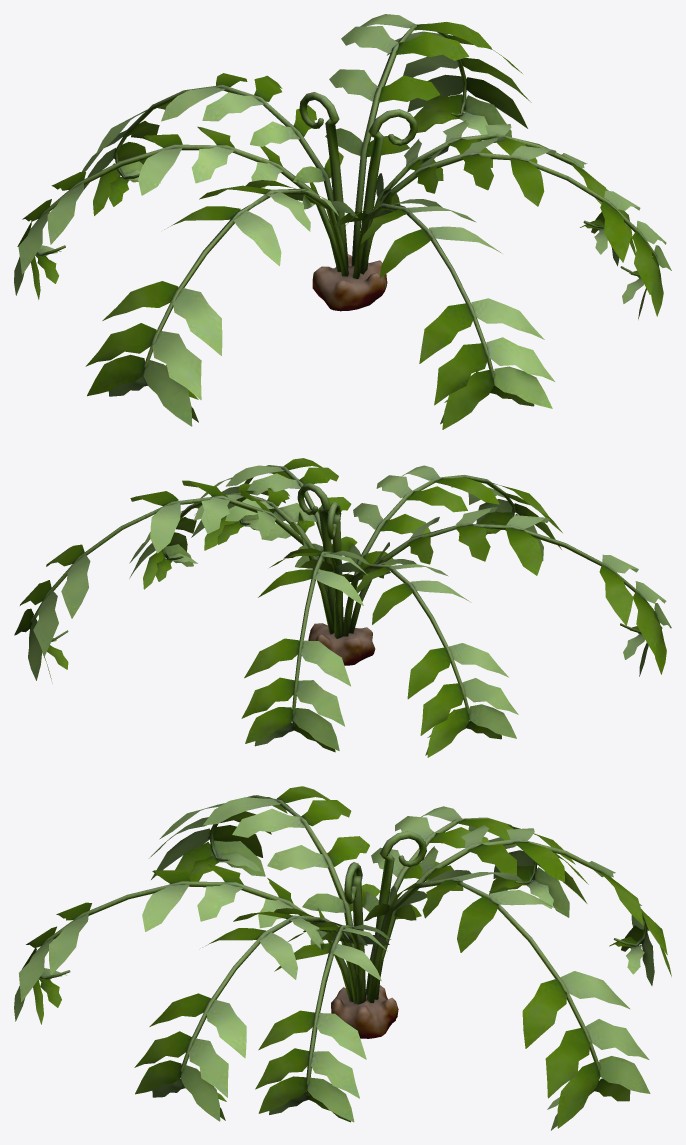
Rendered from fern.glb.
The picture shows the model from 3 angles, top to bottom: view 1: azimuth 30°, elevation 25°; view 2: azimuth 150°, elevation 25°; view 3: azimuth 270°, elevation 25°; orthographic projection. The views are drawn at different scales.
Visible parts, largest first — view 1: tint_fronds, crown; view 2: tint_fronds, crown; view 3: tint_fronds, crown.
Part boxes in pixels (x1,y1,x2,y2): tint_fronds: (14, 14, 671, 429); crown: (312, 254, 387, 311); tint_fronds: (14, 458, 671, 757); crown: (308, 617, 375, 665); tint_fronds: (14, 786, 671, 1130); crown: (331, 985, 398, 1038).
Bounding box in the file's own units: 0.715 × 0.2304 × 0.7048.
2 materials, 2 textured.
